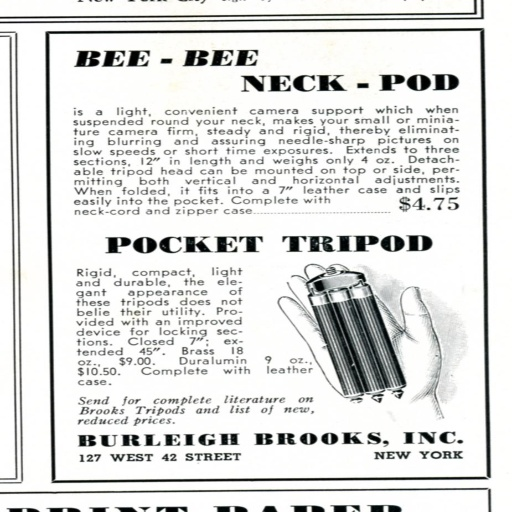hand: (276, 271, 411, 410)
